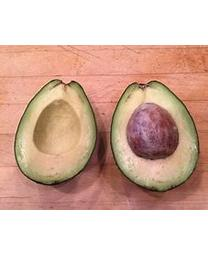avocado: (109, 81, 200, 191), (13, 77, 100, 189)
